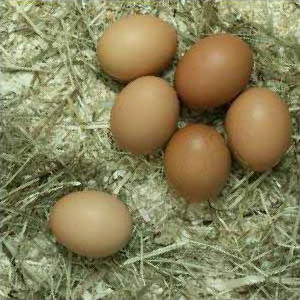egg: (175, 33, 253, 112), (224, 87, 293, 171), (50, 190, 131, 260), (98, 15, 178, 83), (112, 76, 180, 155), (164, 123, 232, 201)
